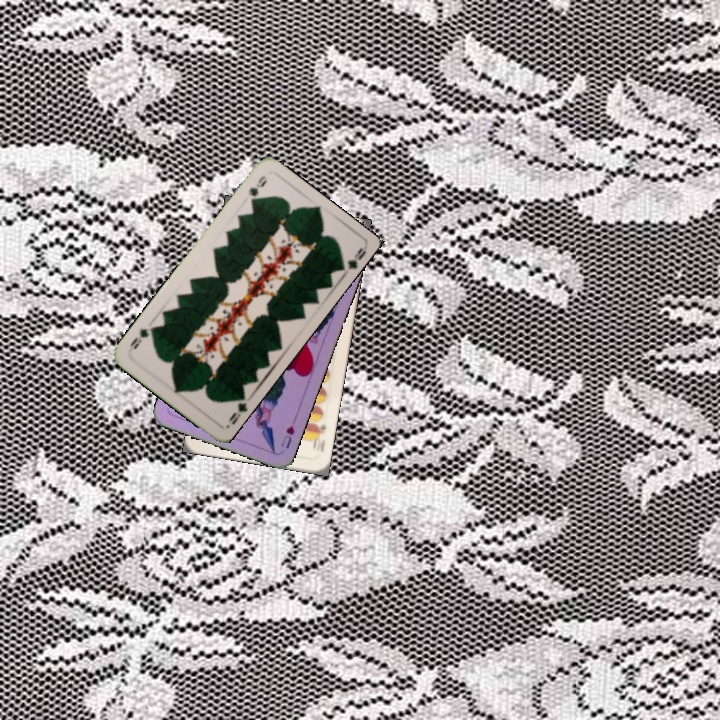E10: (309, 419, 328, 454)
G9: (244, 171, 270, 208), (224, 391, 249, 427)
HU: (277, 421, 297, 451)
